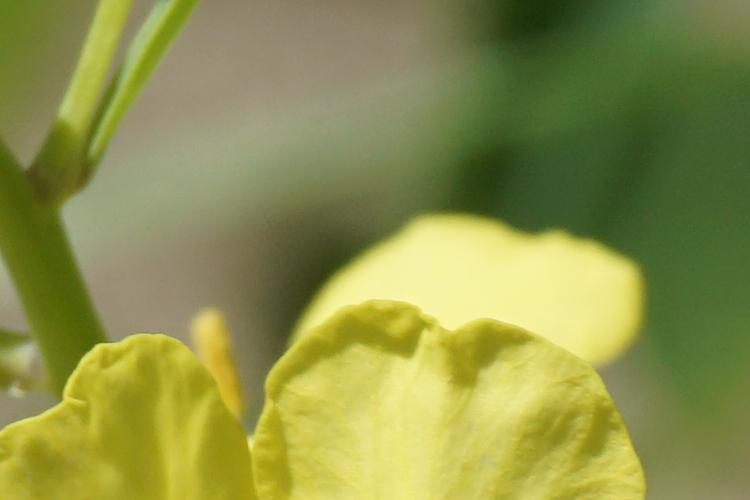yellow: (18, 310, 650, 496)
